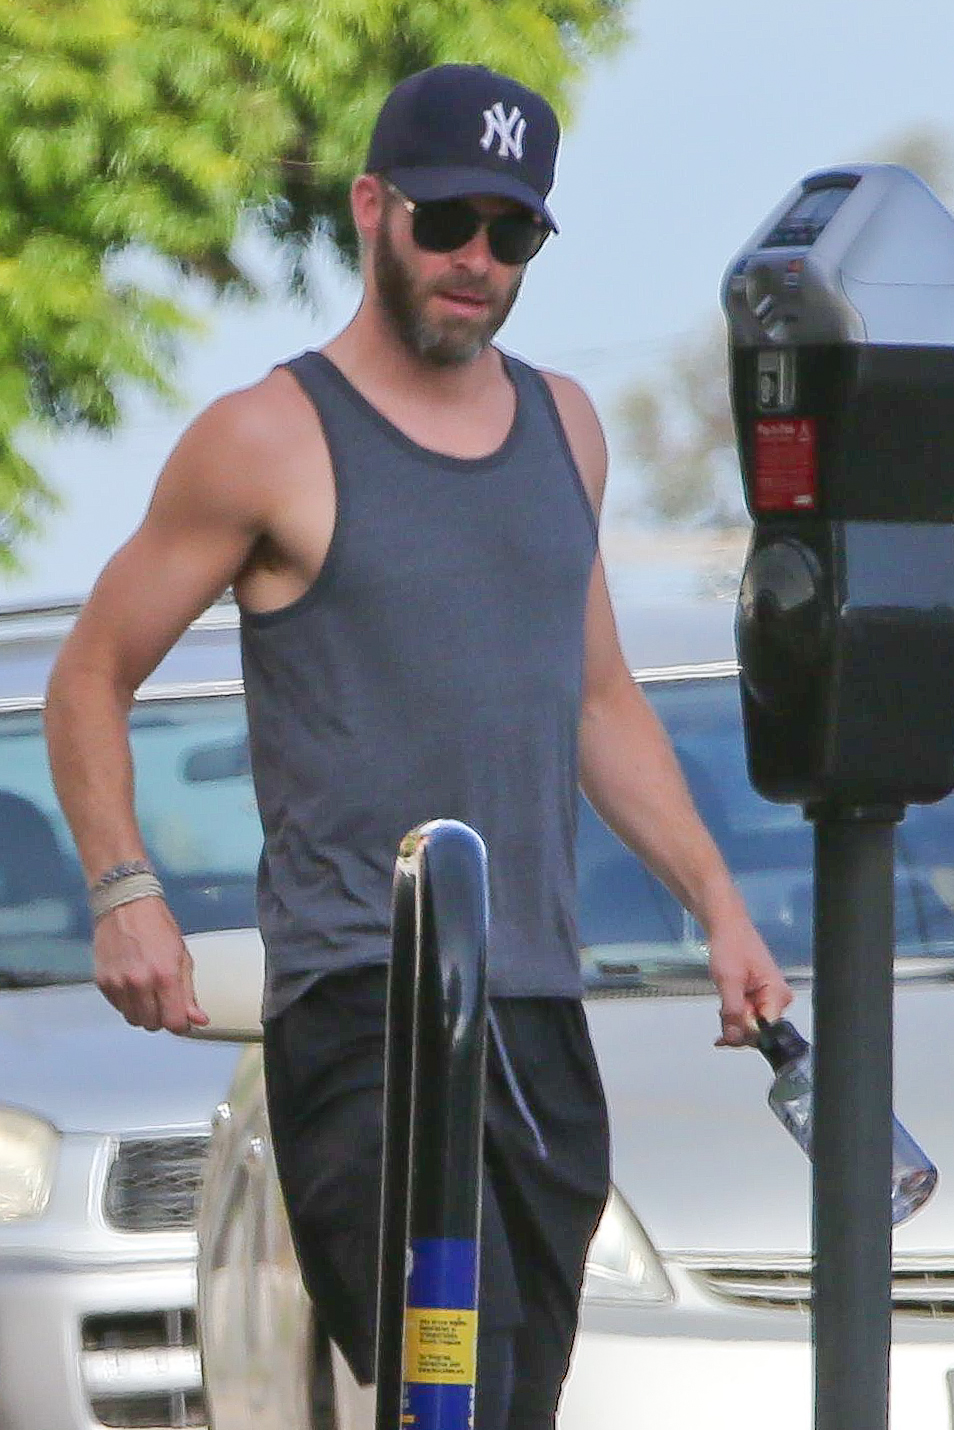Person: (44, 60, 794, 1430)
